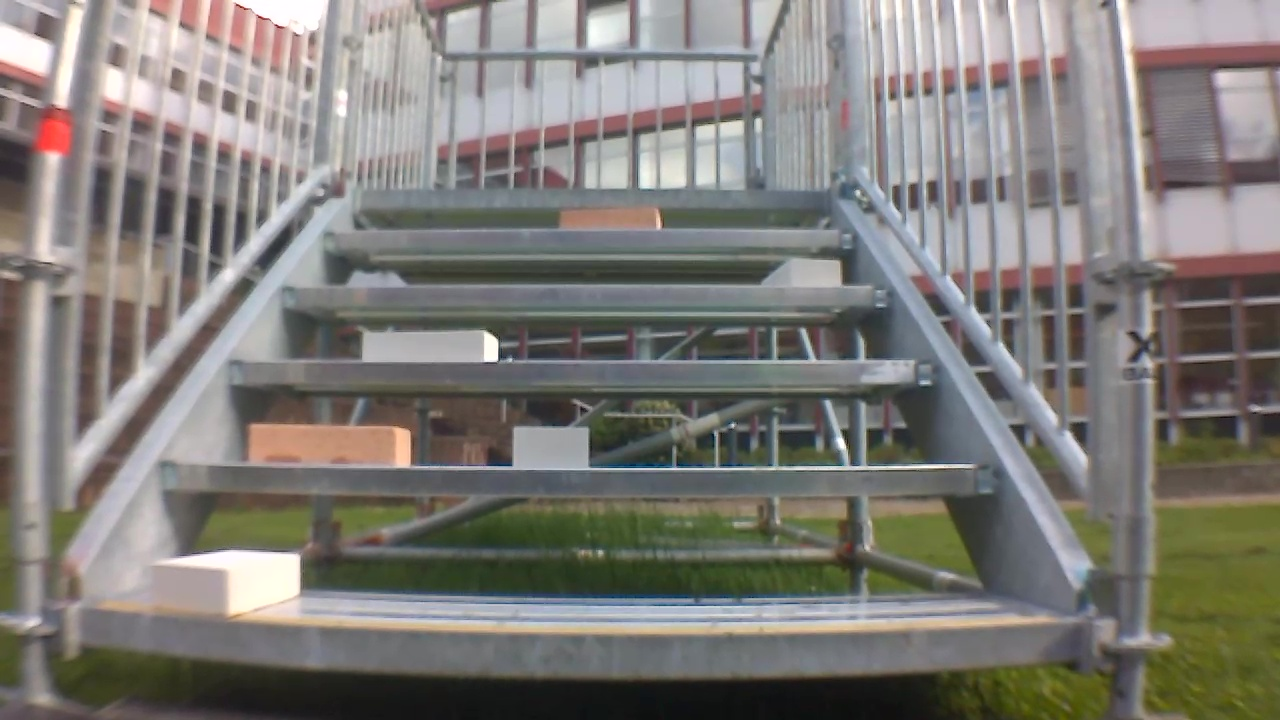brick: (132, 551, 302, 619), (236, 425, 416, 465), (359, 327, 501, 360), (508, 427, 591, 468), (767, 259, 845, 291), (558, 208, 662, 232)
edge: (59, 621, 1095, 671), (158, 463, 998, 495), (229, 359, 941, 387), (277, 284, 897, 307), (320, 226, 857, 252), (356, 186, 834, 204)
stairs: (21, 0, 1142, 701)
steps: (61, 181, 1125, 673)
